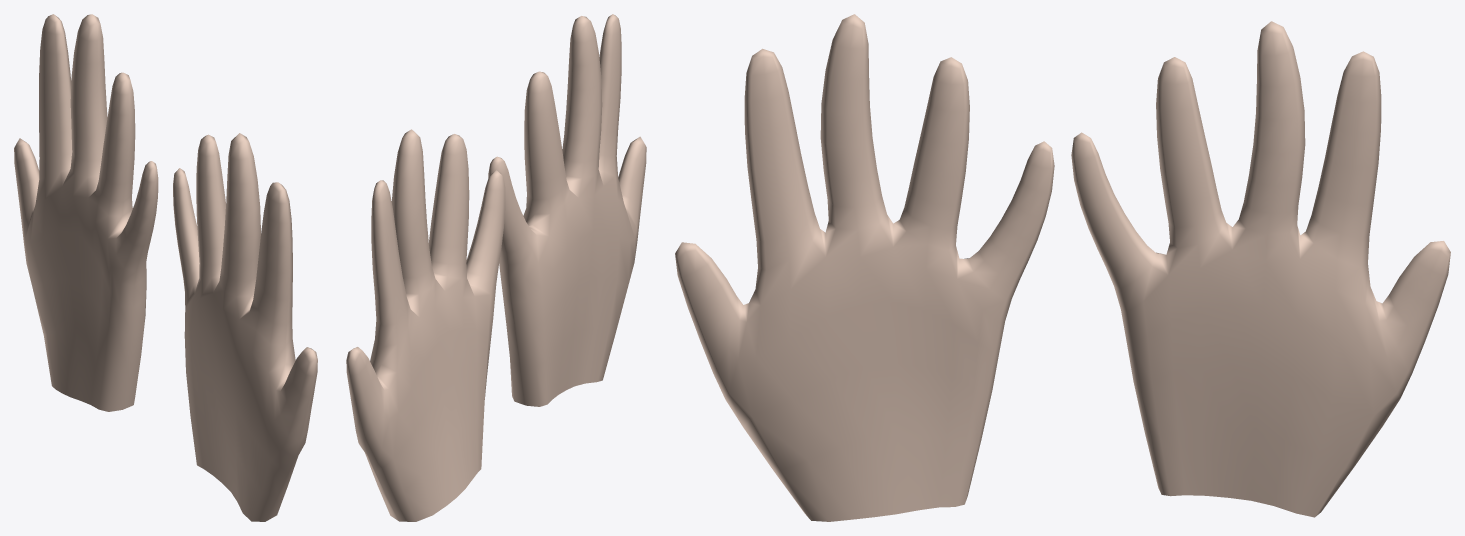
Rendered from Hands.fbx.
3 renders of one model, left to right at view 1: azimuth 30°, elevation 25°; view 2: azimuth 150°, elevation 25°; view 3: azimuth 270°, elevation 25°, orthographic. The views are drawn at different scales.
Visible parts, largest first — view 1: Right hand, Left hand; view 2: Right hand, Left hand; view 3: Left hand, Right hand.
Boxes of the visible parts, x1,y1,x2,y2 form: Right hand: (14, 14, 158, 411); Left hand: (173, 133, 317, 521); Right hand: (346, 129, 505, 521); Left hand: (488, 14, 646, 406); Left hand: (675, 14, 1054, 521); Right hand: (1071, 21, 1450, 517).
Bounding box in the file's own units: 85.18 × 477 × 677.
